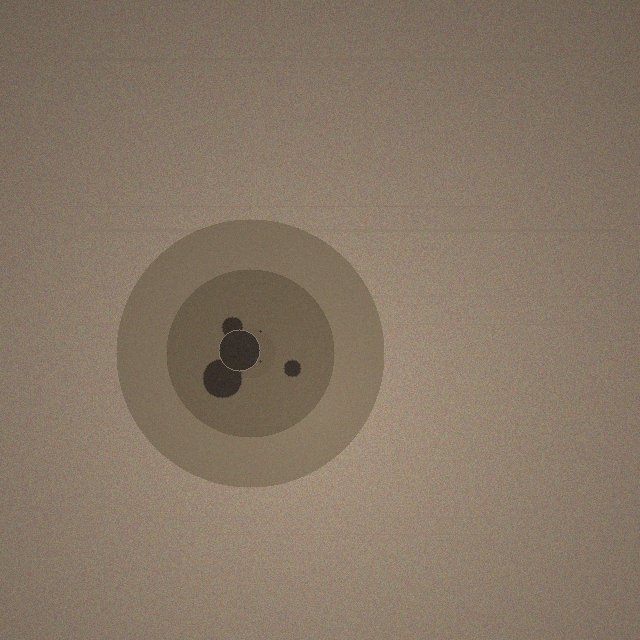shrinkage: (116, 219, 384, 487)
